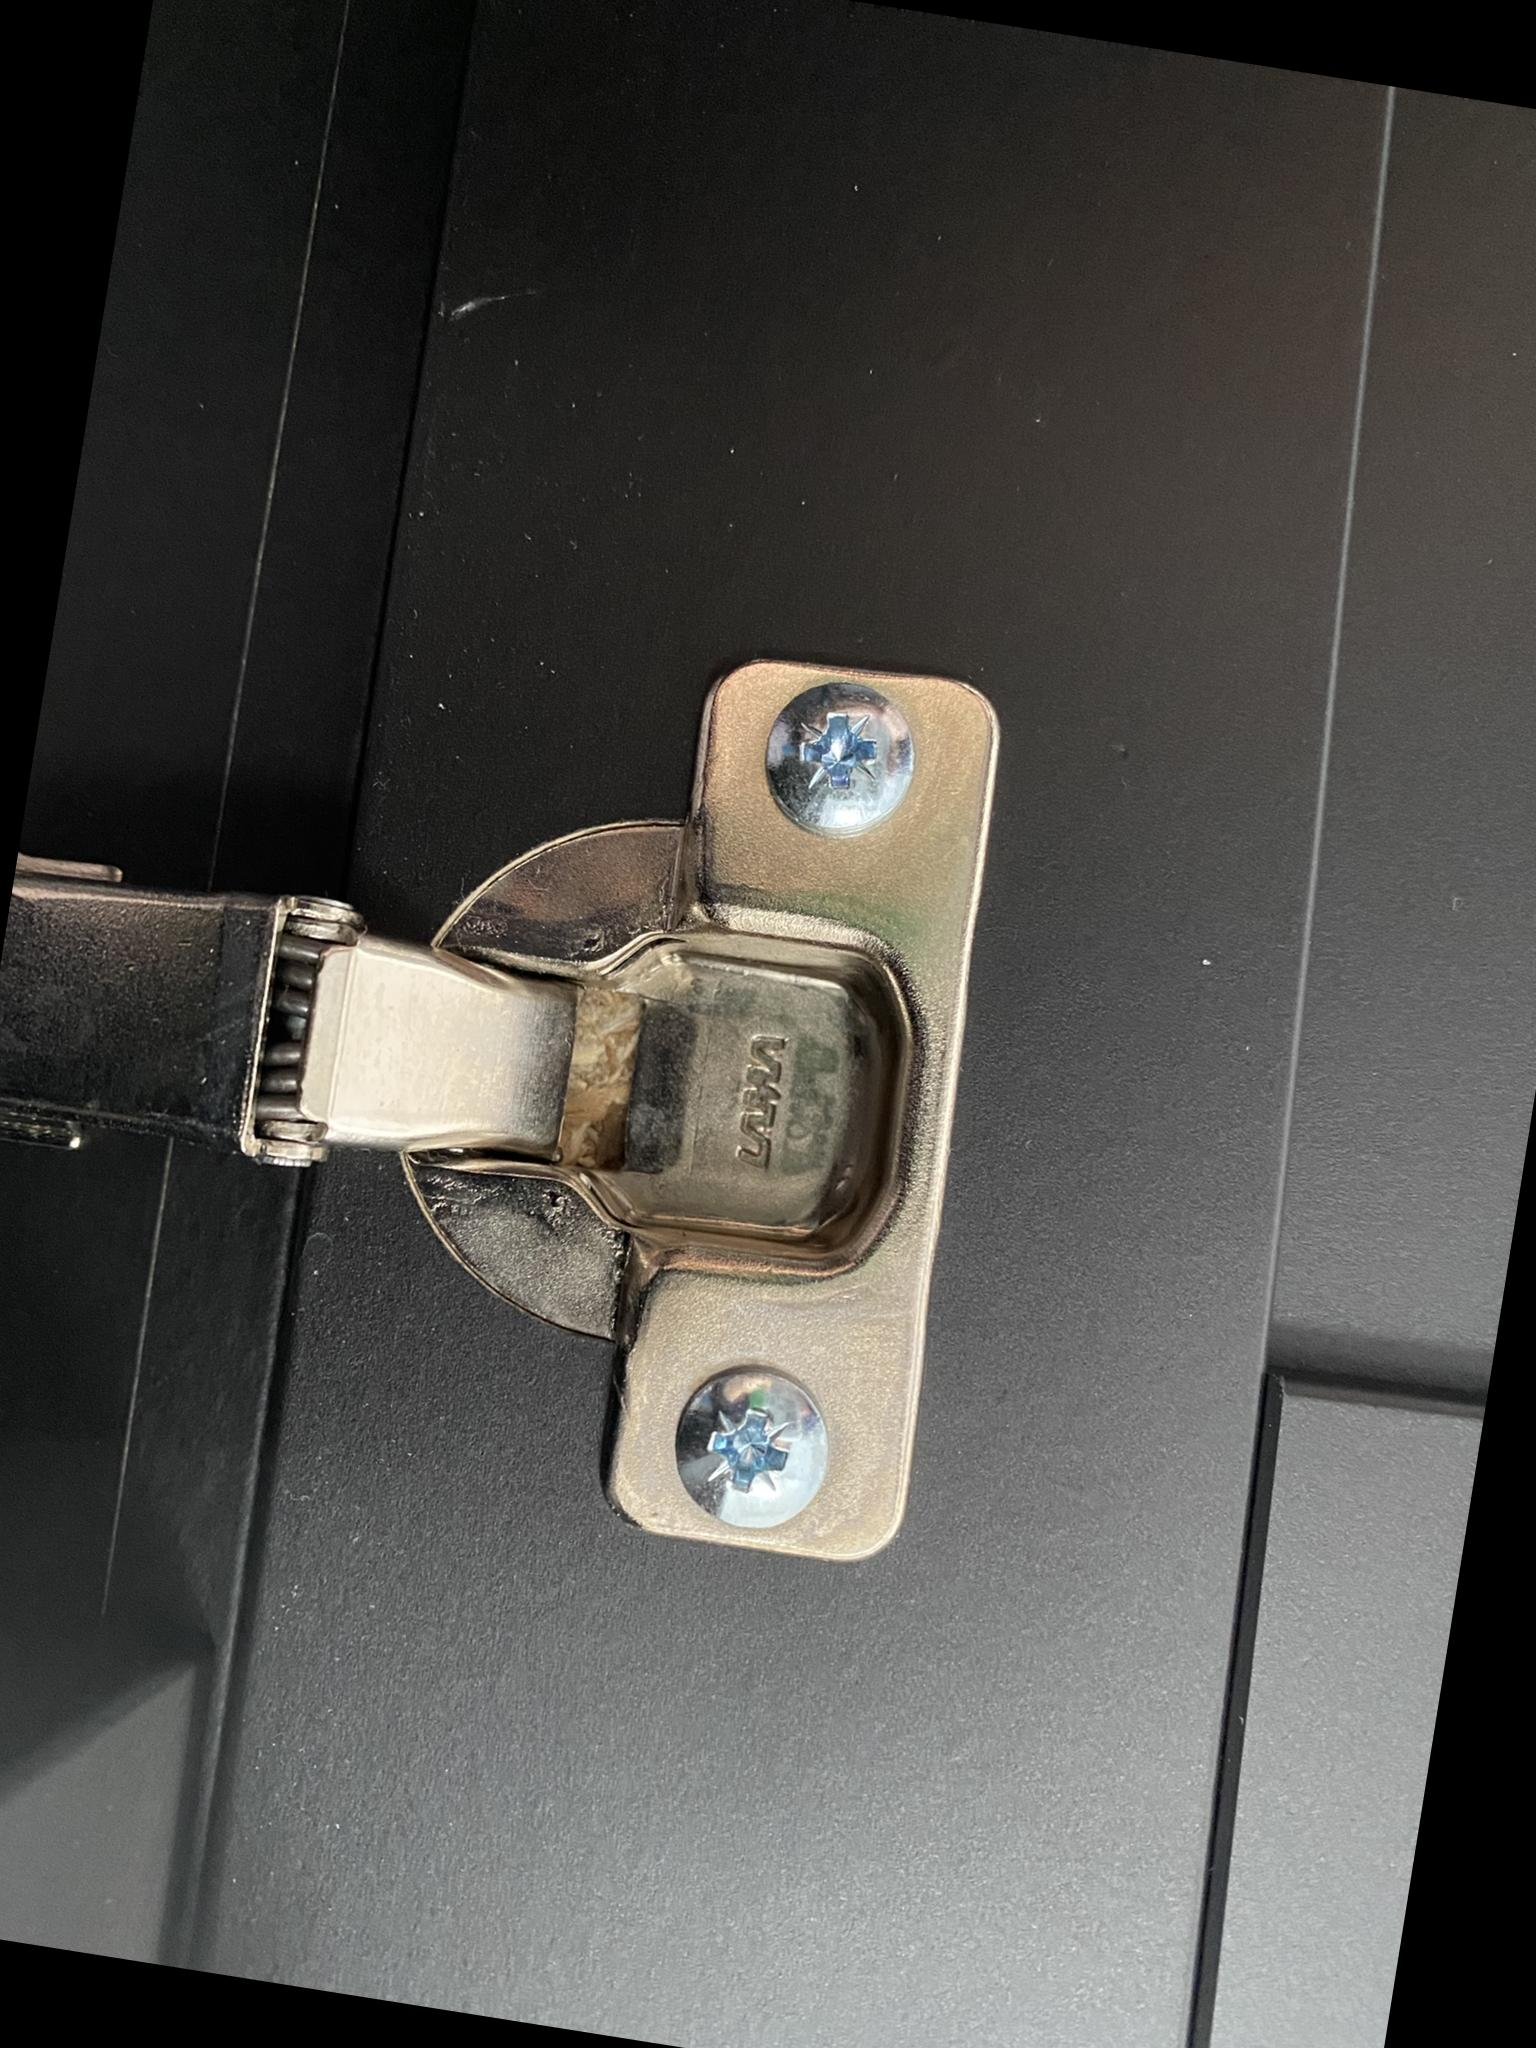PH: (662, 1353, 842, 1542), (753, 671, 926, 847)
